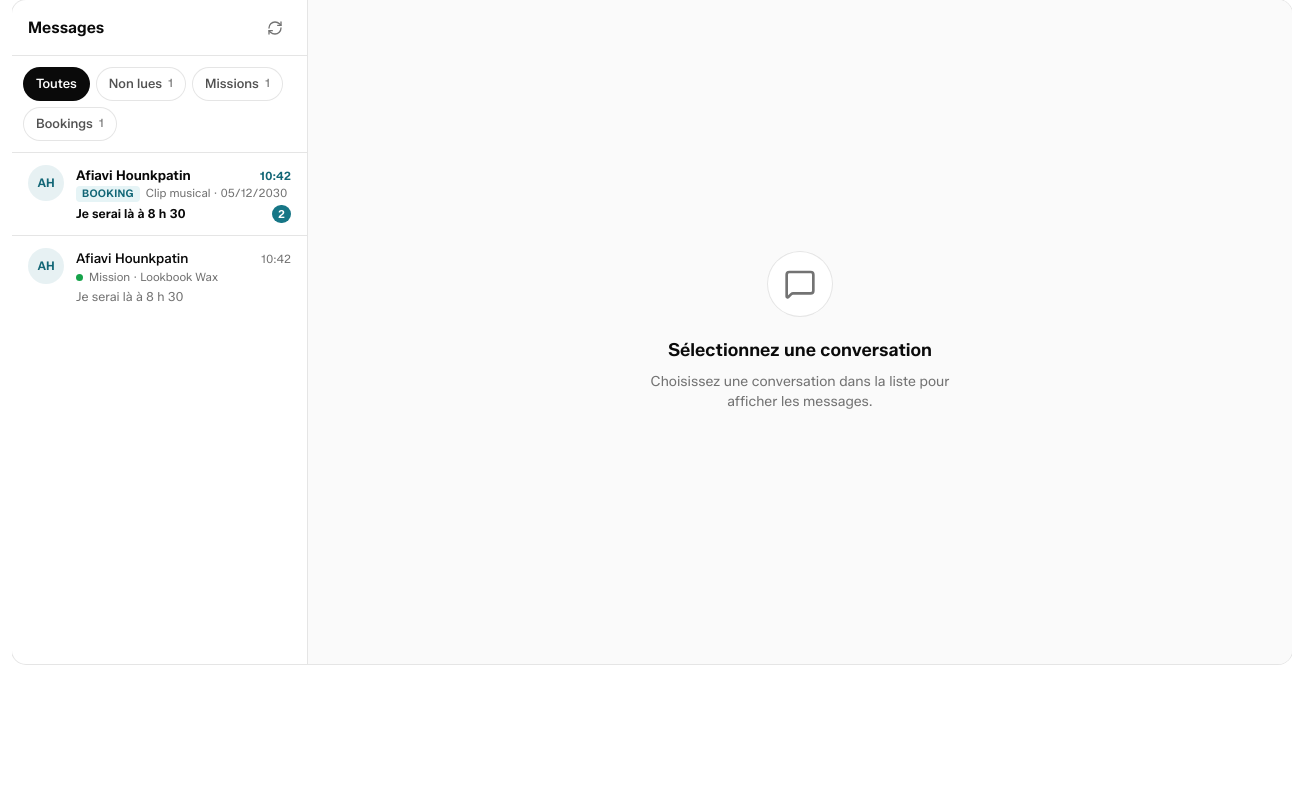
Page Messages — ouverture d’un fil de booking › ouvre le chat du booking dans le panneau (sans charger une conversation) et marque le fil lu
Expected: the element with test id "unread-badge" is shown, [272, 205, 291, 223]
Step 1. Click the button with test id "conversation-item" → (160, 194), box [12, 153, 307, 235]
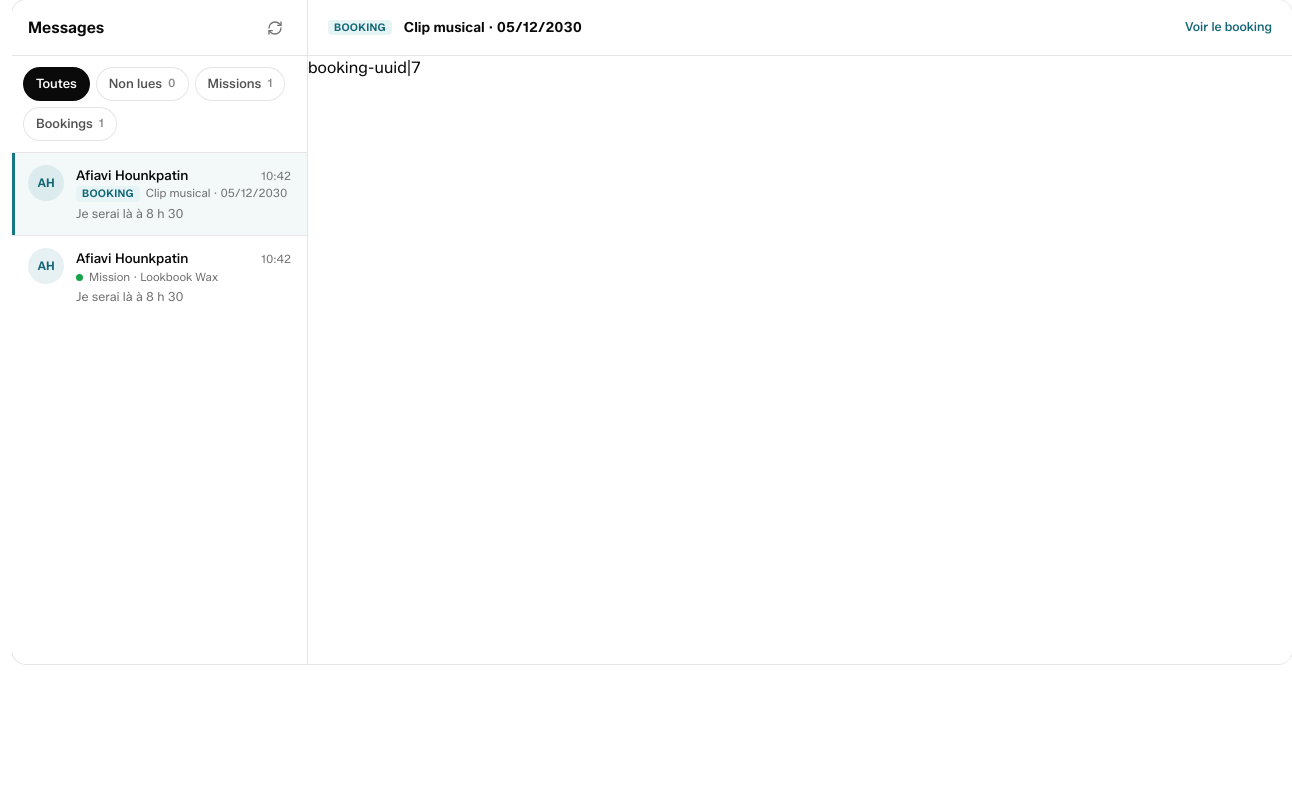
Expected: the text with test id "booking-chat-stub" reads "booking-uuid|7", [308, 58, 420, 77]
